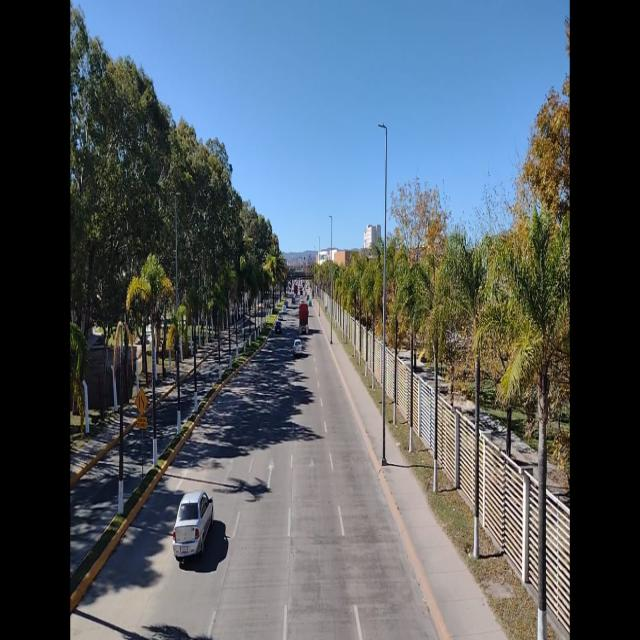Auto: (172, 488, 215, 561), (294, 338, 302, 358), (276, 322, 282, 333)
